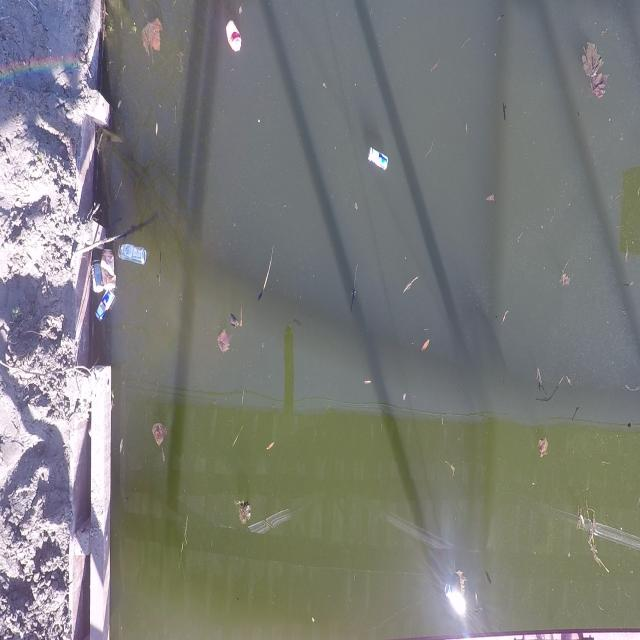Non plastique: (94, 288, 117, 325), (443, 584, 466, 620), (100, 248, 117, 290), (365, 149, 390, 176), (118, 244, 148, 266), (224, 22, 244, 54), (90, 258, 104, 296)
